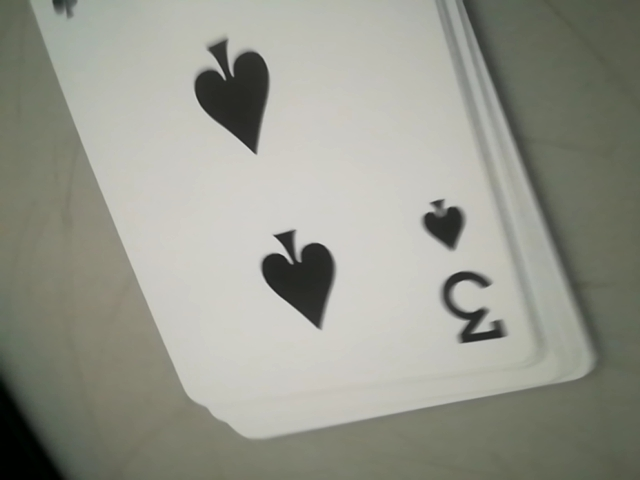ht 3: (425, 189, 521, 349)
